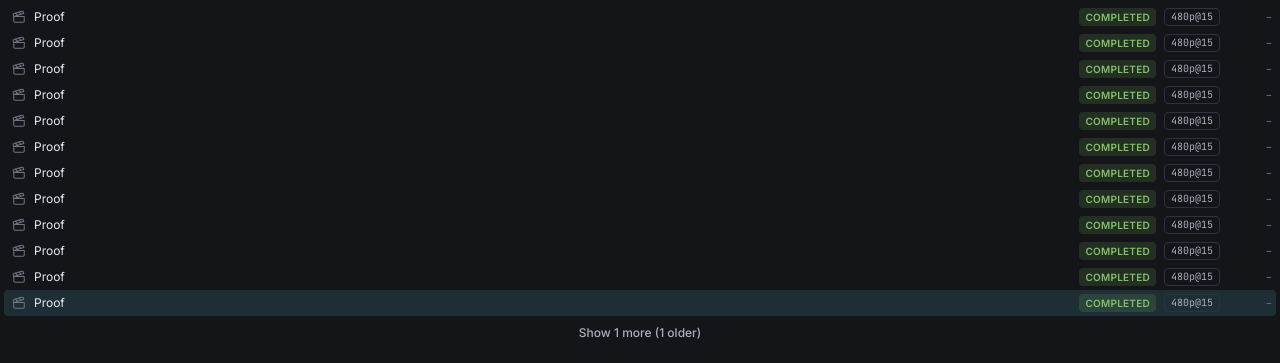
Scenario: RenderBin › pages older items in, so a failed render pushed down by newer ones can still be retried
What coordinates should you click on to do the following:
click the button "Show 1 more (1 older)"
I would click on:
 (640, 333)
Its box is [4, 320, 1276, 346].
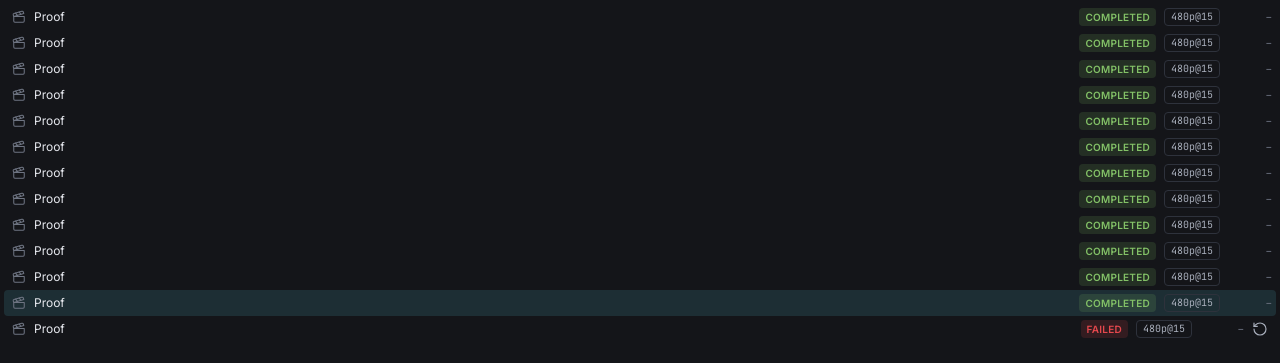
Check: the button named "Retry" is shown, box [1248, 317, 1272, 341]
